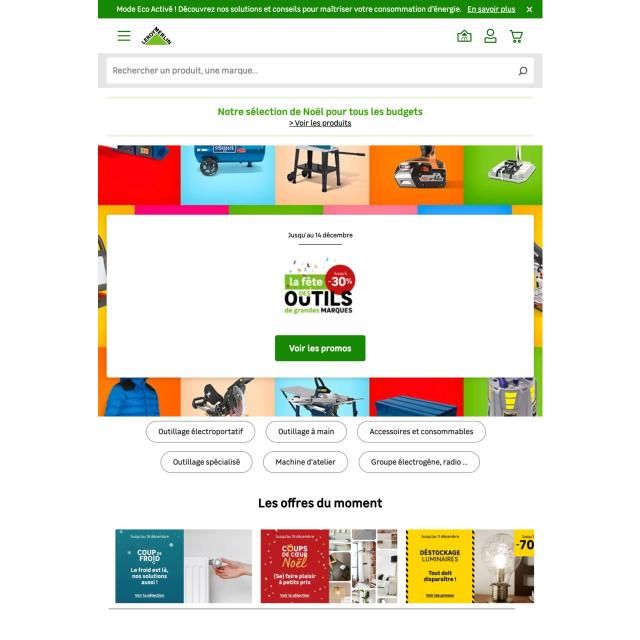input: (106, 58, 536, 86)
logo: (138, 26, 174, 46)
navigation: (115, 28, 133, 43)
